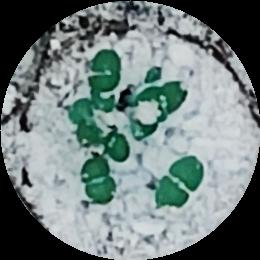Basil: (160, 153, 209, 209), (141, 82, 191, 112), (85, 50, 119, 94), (79, 161, 114, 202), (83, 127, 126, 155)
